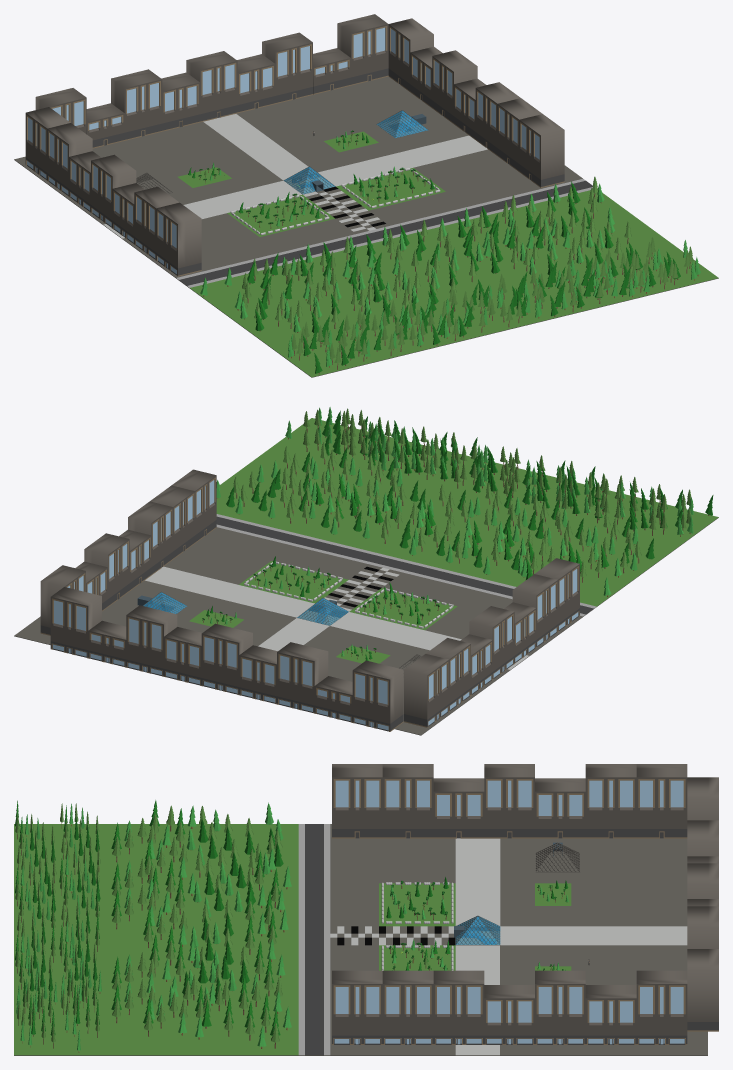
The model's file is Level 3.fbx.
3 renders of one model, top to bottom at view 1: azimuth 30°, elevation 25°; view 2: azimuth 150°, elevation 25°; view 3: azimuth 270°, elevation 25°, orthographic. The views are drawn at different scales.
Visible parts, largest first — view 1: Ground.002, Pine_Tree_03.020, skyscraperF.001, skyscraperF.002, skyscraperF.076, skyscraperF.077, skyscraperF.069, skyscraperF.071, hedge_straight_long.002, skyscraperF.082, skyscraperF.070, skyscraperF.078 (+17 smaller); view 2: Ground.002, Pine_Tree_03.020, skyscraperF.074, skyscraperF.087, skyscraperF.077, skyscraperF.076, skyscraperF.069, skyscraperF.071, hedge_straight_long.002, skyscraperF.079, skyscraperF.080, skyscraperF.078 (+16 smaller); view 3: Ground.002, Pine_Tree_03.020, skyscraperF.081, skyscraperF.086, skyscraperF.087, skyscraperF.083, skyscraperF.079, skyscraperF.082, skyscraperF.001, skyscraperF.002, skyscraperF.078, skyscraperF.080 (+14 smaller).
Boxes of the visible parts, <box> form: Ground.002: <box>14,76,718,377</box>; Pine_Tree_03.020: <box>200,176,700,374</box>; skyscraperF.001: <box>519,114,564,187</box>; skyscraperF.002: <box>156,202,201,276</box>; skyscraperF.076: <box>111,69,162,140</box>; skyscraperF.077: <box>337,14,388,85</box>; skyscraperF.069: <box>186,51,237,122</box>; skyscraperF.071: <box>262,32,312,103</box>; hedge_straight_long.002: <box>188,130,440,228</box>; skyscraperF.082: <box>388,18,433,91</box>; skyscraperF.070: <box>237,54,275,113</box>; skyscraperF.078: <box>432,50,477,123</box>; Ground.002: <box>14,418,718,735</box>; Pine_Tree_03.020: <box>216,407,713,597</box>; skyscraperF.074: <box>352,660,403,731</box>; skyscraperF.087: <box>404,654,449,727</box>; skyscraperF.077: <box>50,587,101,658</box>; skyscraperF.076: <box>277,642,328,713</box>; skyscraperF.069: <box>201,623,252,694</box>; skyscraperF.071: <box>126,605,177,676</box>; hedge_straight_long.002: <box>202,556,439,660</box>; skyscraperF.079: <box>128,501,173,575</box>; skyscraperF.080: <box>469,606,514,679</box>; skyscraperF.078: <box>84,533,129,606</box>; Ground.002: <box>14,824,707,1055</box>; Pine_Tree_03.020: <box>15,800,291,1052</box>; skyscraperF.081: <box>585,764,636,838</box>; skyscraperF.086: <box>382,764,433,838</box>; skyscraperF.087: <box>636,764,687,838</box>; skyscraperF.083: <box>382,970,433,1044</box>; skyscraperF.079: <box>433,970,484,1044</box>; skyscraperF.082: <box>636,970,687,1044</box>; skyscraperF.001: <box>332,970,382,1044</box>; skyscraperF.002: <box>332,764,382,838</box>; skyscraperF.078: <box>535,970,585,1044</box>; skyscraperF.080: <box>484,764,534,838</box>.
Bounding box in the file's own units: 17317 × 2491 × 22225.
